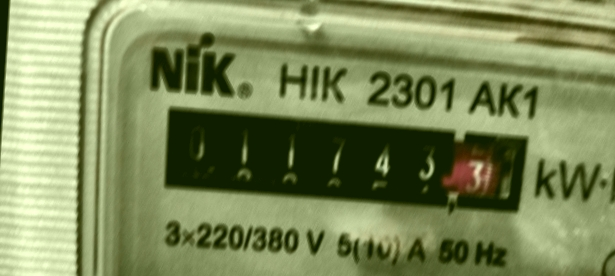0: (183, 123, 207, 163), (232, 125, 253, 167)
1: (279, 129, 298, 171)
3: (414, 141, 436, 185), (461, 157, 483, 196)
4: (369, 138, 391, 179)
7: (322, 132, 348, 177)
screen: (141, 94, 535, 225)
